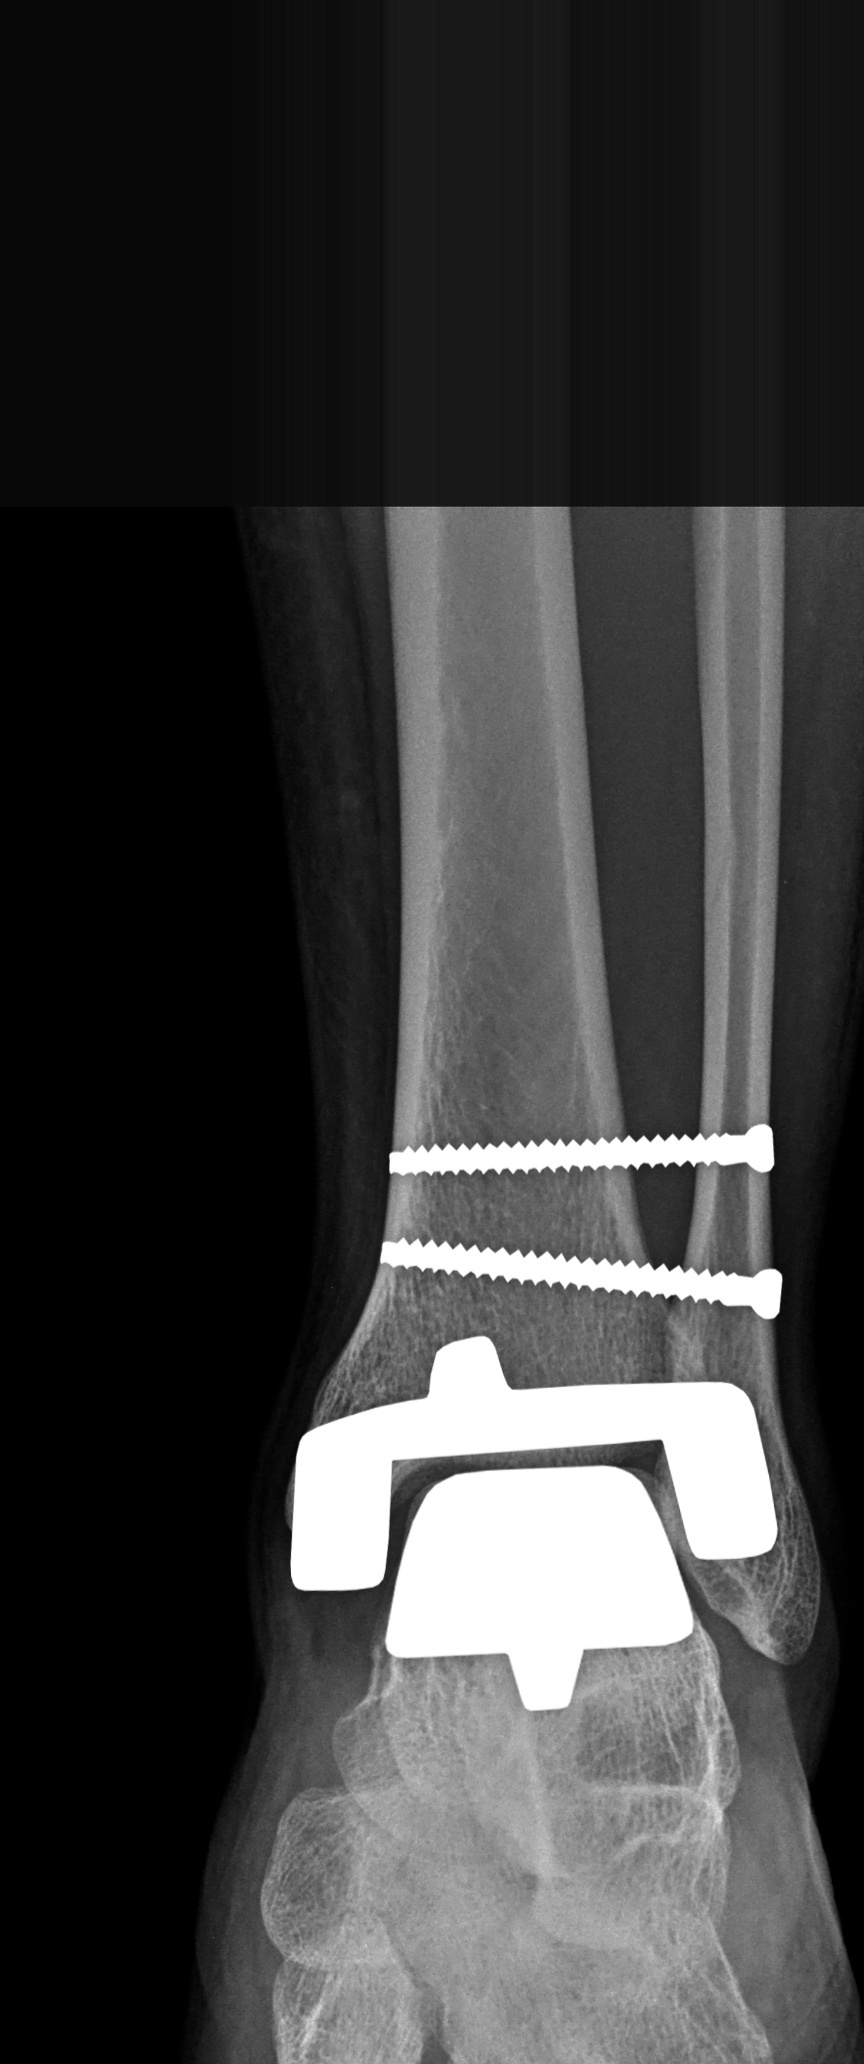Ankle - Agility - DePuy: (240, 1111, 809, 1726)
